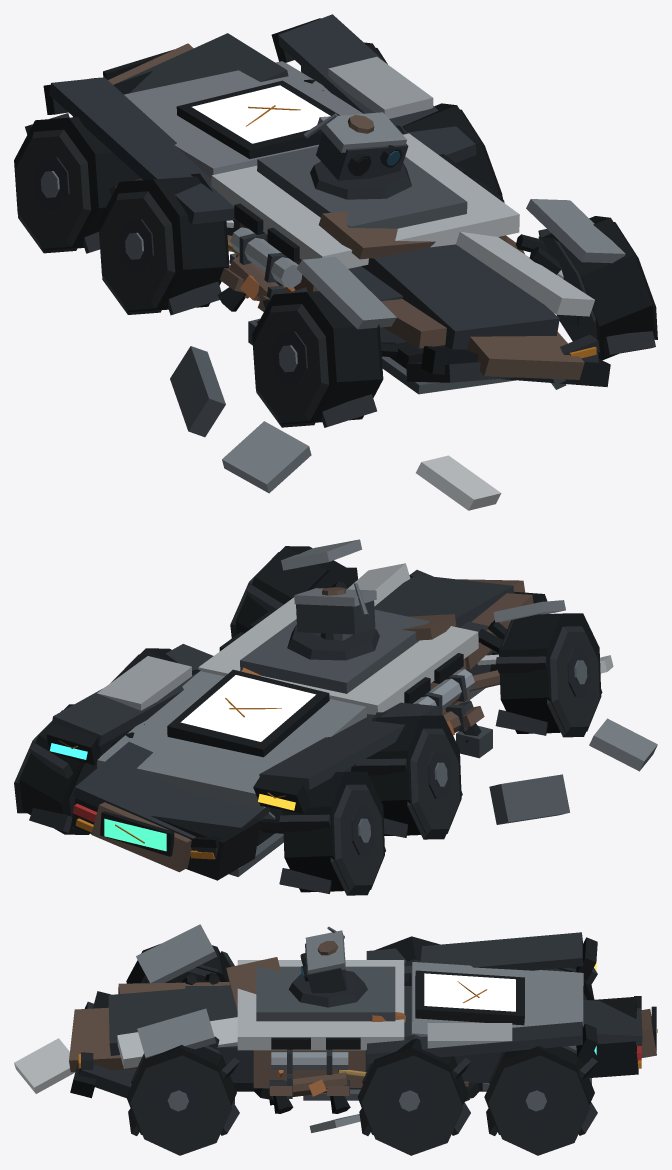
Rendered from r47x_recon_rover_d2_lod1.meshopt.glb.
The picture shows the model from 3 angles, top to bottom: view 1: azimuth 30°, elevation 25°; view 2: azimuth 150°, elevation 25°; view 3: azimuth 270°, elevation 25°; orthographic projection. The views are drawn at different scales.
Visible parts, largest first — view 1: CHASSIS_ARMOR_BODY, ZONE_FRONT_BUMPER, WHEEL_FL, WHEEL_ML, ZONE_FLANK_NEG_X, WHEEL_RL, WHEEL_FR, ZONE_FLANK_POS_X, ZONE_REAR_PANEL, SENSOR_MAST_HEAD, DISPLAY_FDAI_TELEMETRY_PANEL, DEBRIS_FENDER_POS_X (+6 smaller); view 2: CHASSIS_ARMOR_BODY, ZONE_REAR_PANEL, WHEEL_FL, WHEEL_RL, WHEEL_ML, ZONE_FRONT_BUMPER, ZONE_FLANK_NEG_X, ZONE_FLANK_POS_X, WHEEL_RR, DISPLAY_FDAI_TELEMETRY_PANEL, WHEEL_FR, SENSOR_MAST_HEAD (+8 smaller); view 3: CHASSIS_ARMOR_BODY, ZONE_FRONT_BUMPER, WHEEL_RR, WHEEL_FR, WHEEL_MR, ZONE_FLANK_POS_X, ZONE_FLANK_NEG_X, ZONE_REAR_PANEL, DISPLAY_FDAI_TELEMETRY_PANEL, SENSOR_MAST_HEAD, DEBRIS_FRONT_BEAK, DEBRIS_FENDER_POS_X (+6 smaller).
Boxes of the visible parts, x1,y1,x2,y2 form: CHASSIS_ARMOR_BODY: (124,61,519,368); ZONE_FRONT_BUMPER: (296,199,625,394); WHEEL_FL: (252,287,383,427); WHEEL_ML: (98,173,229,315); ZONE_FLANK_NEG_X: (43,77,318,301); WHEEL_RL: (14,113,140,253); WHEEL_FR: (538,216,657,360); ZONE_FLANK_POS_X: (271,14,506,242); ZONE_REAR_PANEL: (73,33,288,117); SENSOR_MAST_HEAD: (304,112,408,180); DISPLAY_FDAI_TELEMETRY_PANEL: (192,85,330,143); DEBRIS_FENDER_POS_X: (328,56,433,118); CHASSIS_ARMOR_BODY: (97,597,491,845); ZONE_REAR_PANEL: (71,742,283,880); WHEEL_FL: (495,613,602,737); WHEEL_RL: (279,771,385,895); WHEEL_ML: (356,712,462,839); ZONE_FRONT_BUMPER: (281,539,565,699); ZONE_FLANK_NEG_X: (253,653,474,813); ZONE_FLANK_POS_X: (46,608,277,765); WHEEL_RR: (14,704,135,834); DISPLAY_FDAI_TELEMETRY_PANEL: (180,675,315,741); WHEEL_FR: (230,546,357,637); SENSOR_MAST_HEAD: (294,583,376,640); CHASSIS_ARMOR_BODY: (185,957,583,1100); ZONE_FRONT_BUMPER: (69,924,237,1103); WHEEL_RR: (484,1046,597,1155); WHEEL_FR: (126,1045,239,1155); WHEEL_MR: (357,1034,470,1155); ZONE_FLANK_POS_X: (253,1021,597,1099); ZONE_FLANK_NEG_X: (366,932,597,981); ZONE_REAR_PANEL: (482,996,656,1090); DISPLAY_FDAI_TELEMETRY_PANEL: (424,973,515,1011); SENSOR_MAST_HEAD: (300,926,346,993); DEBRIS_FRONT_BEAK: (14,1038,75,1093); DEBRIS_FENDER_POS_X: (427,1023,512,1048).
Bounding box in the file's own units: 2.97 × 1.65 × 5.18.
